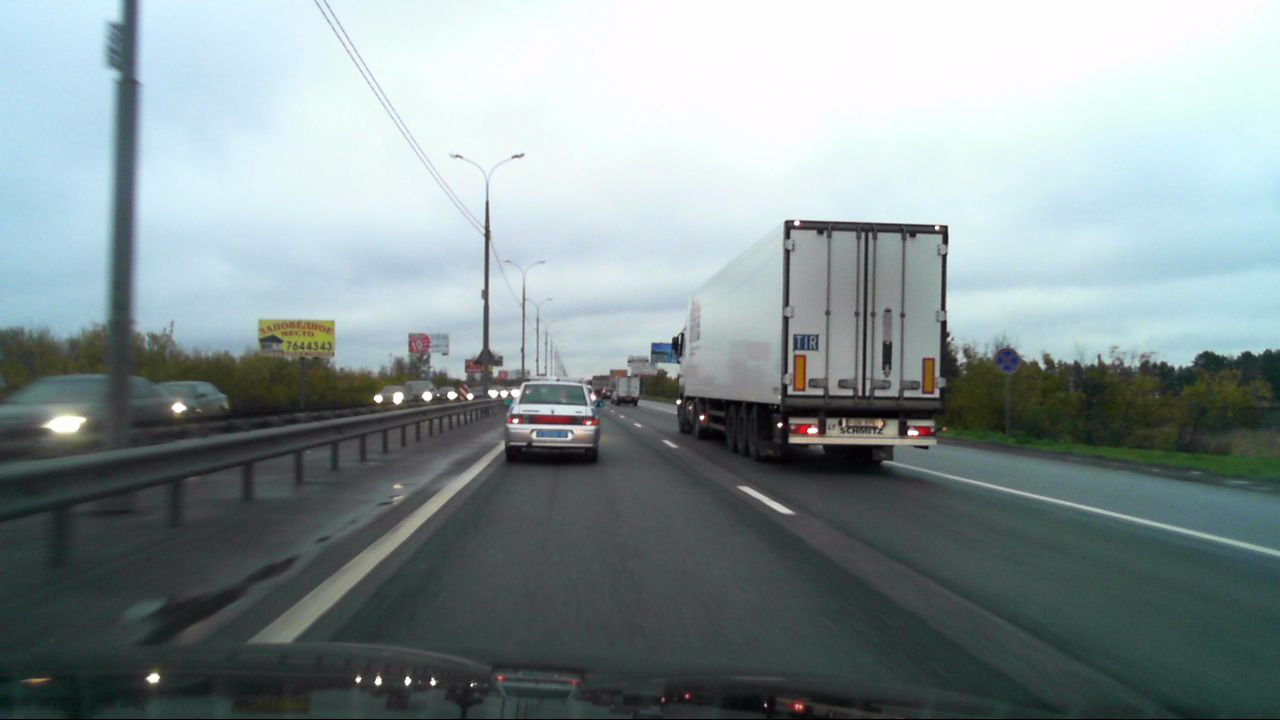No Parking: (993, 347, 1019, 374)
